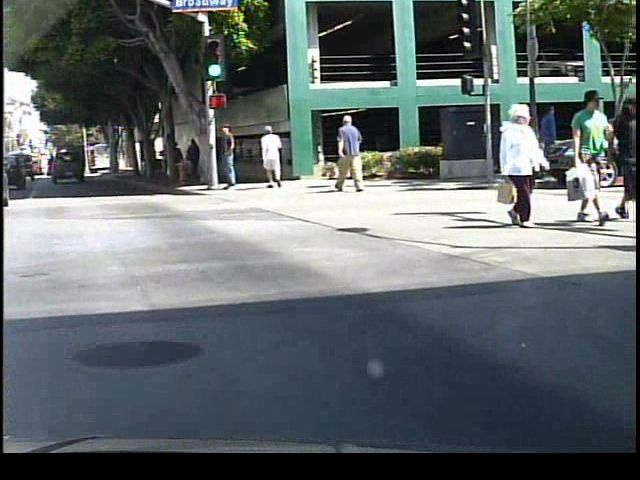person: (492, 103, 553, 233), (568, 90, 611, 230), (607, 98, 637, 223), (338, 113, 372, 195), (216, 122, 246, 203), (534, 103, 562, 180), (262, 123, 290, 194), (171, 140, 187, 186), (189, 136, 207, 175)
